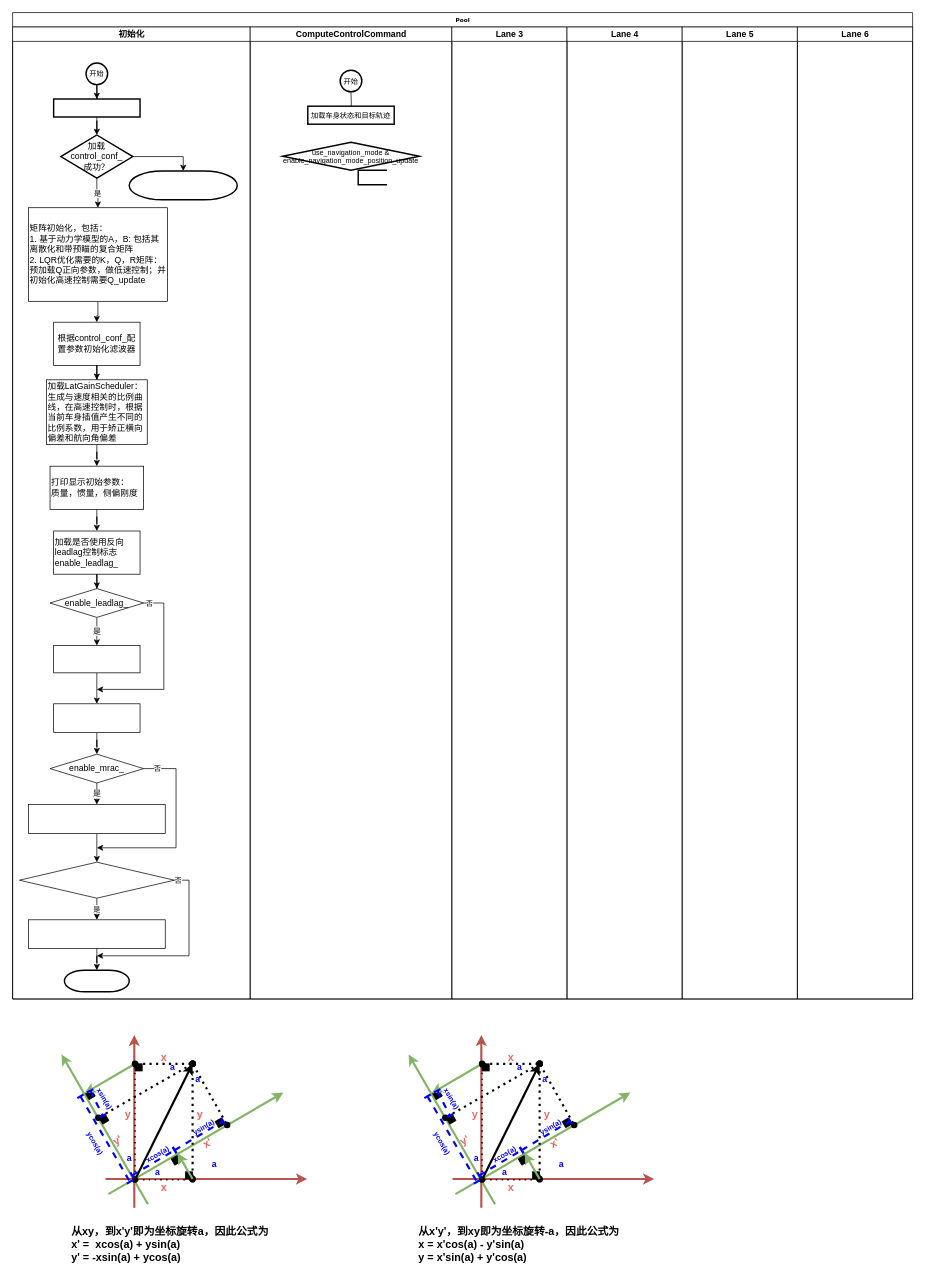
The diagram is 925 pixels wide and 1278 high, and some of its shapes have lost their labels. The box of each missing label's shape, as (x1, y1, x2, y2) in pixels:
default: false & true: (357, 169, 387, 185)
enable_look_ahead_back_control_: (19, 861, 174, 898)
加载enable_look_ahead_back_control: (28, 919, 165, 949)
加载enable_mrac_: (53, 703, 140, 733)
加载反向leadlag: (53, 645, 140, 673)
加载控制配置参数 和车身状态: (53, 98, 140, 117)
加载是否使用质心控制标志enable_look_ahead_back_control_: (28, 804, 165, 833)
返回 Status::OK(): (63, 969, 130, 992)
返回ErrorCode:: CONTROL_COMPUTE_ERROR: (128, 170, 238, 200)
